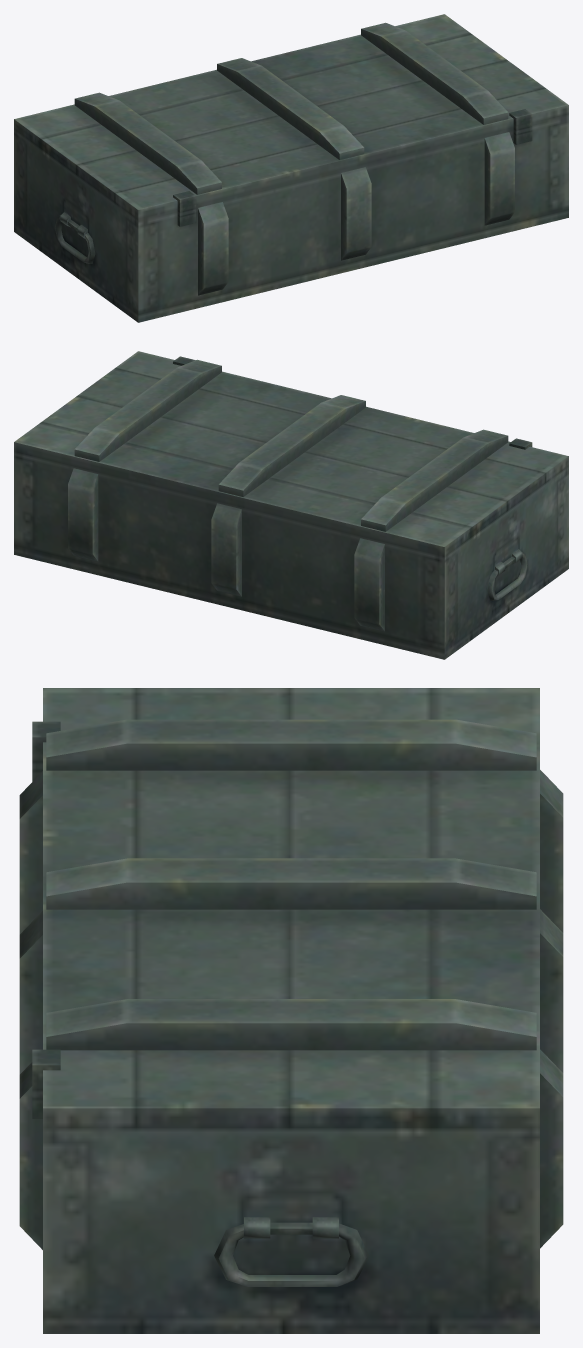
File: crate2.glb
The picture shows the model from 3 angles, top to bottom: view 1: azimuth 30°, elevation 25°; view 2: azimuth 150°, elevation 25°; view 3: azimuth 270°, elevation 25°; orthographic projection. The views are drawn at different scales.
Visible parts, largest first — view 1: studio_craterecoil_ref_mesh_0; view 2: studio_craterecoil_ref_mesh_0; view 3: studio_craterecoil_ref_mesh_0.
Boxes of the visible parts, x1,y1,x2,y2 form: studio_craterecoil_ref_mesh_0: (14, 14, 568, 322); studio_craterecoil_ref_mesh_0: (14, 351, 568, 659); studio_craterecoil_ref_mesh_0: (19, 688, 563, 1333).
Size of the model in its own units: 34.7 by 9.54 by 18.63.
Materials: 1 (1 with a texture image).
